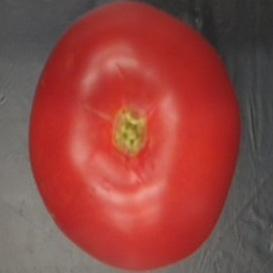unripe: (26, 2, 243, 273)
